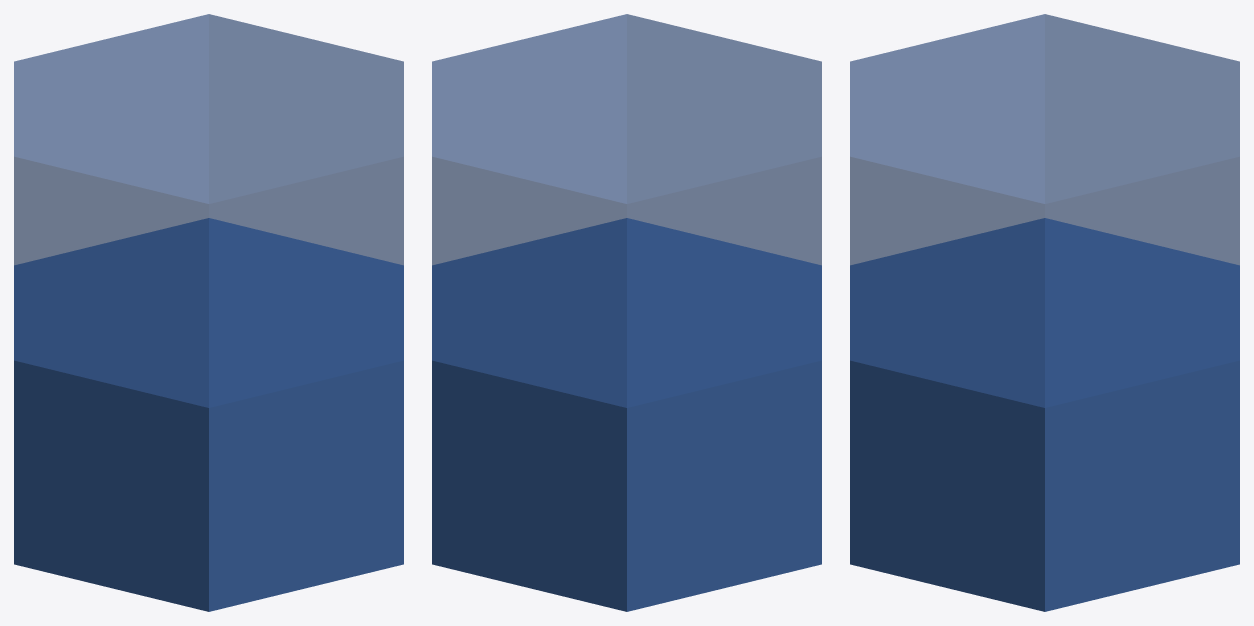
File: WaterTile.fbx
The picture shows the model from 3 angles, left to right: view 1: azimuth 30°, elevation 25°; view 2: azimuth 150°, elevation 25°; view 3: azimuth 270°, elevation 25°; orthographic projection.
Parts seen in each view (by area): view 1: Gengon001, Gengon002; view 2: Gengon001, Gengon002; view 3: Gengon001, Gengon002.
Part boxes in pixels (box(x1,y1,x2,y2)): Gengon001: box(14, 218, 403, 611); Gengon002: box(14, 14, 403, 407); Gengon001: box(432, 218, 821, 611); Gengon002: box(432, 14, 821, 407); Gengon001: box(850, 218, 1239, 611); Gengon002: box(850, 14, 1239, 407).
Bounding box in the file's own units: 2 × 2 × 1.73.
